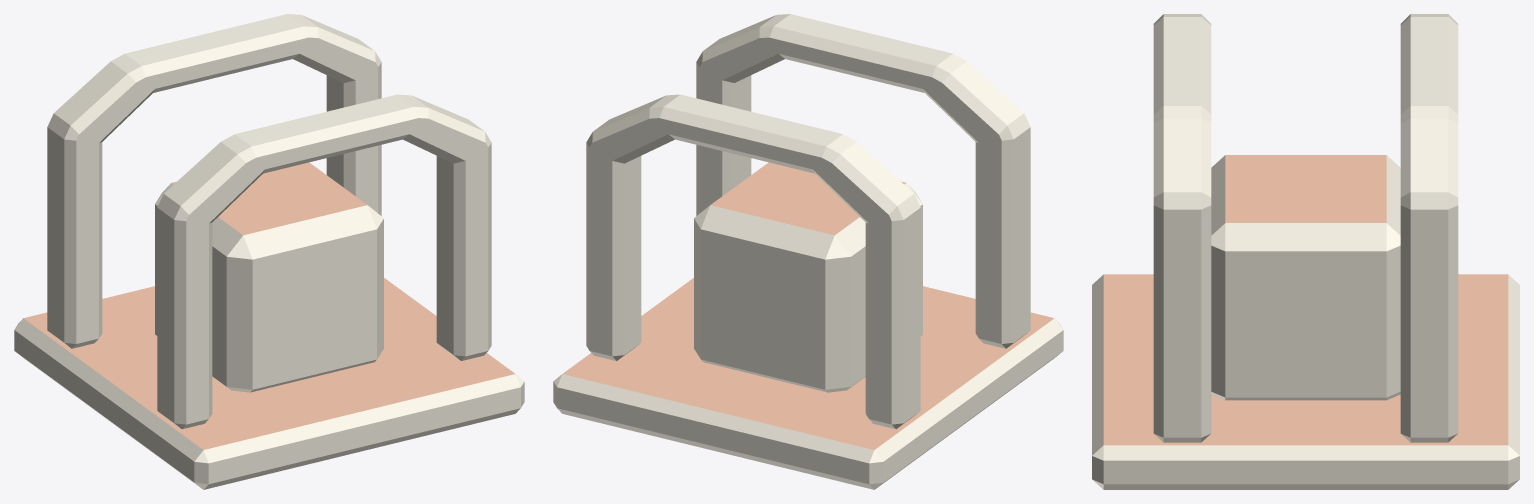
The model's file is R4X_ModuleDurabilityBooster_LOD1.fbx.
3 views of the same model, side by side, from view 1: azimuth 30°, elevation 25°; view 2: azimuth 150°, elevation 25°; view 3: azimuth 270°, elevation 25° (orthographic). The views are drawn at different scales.
Visible parts, largest first — view 1: R4X_ModuleDurabilityBooster_LOD1; view 2: R4X_ModuleDurabilityBooster_LOD1; view 3: R4X_ModuleDurabilityBooster_LOD1.
Part boxes in pixels (x1,y1,x2,y2): R4X_ModuleDurabilityBooster_LOD1: [14, 14, 524, 489]; R4X_ModuleDurabilityBooster_LOD1: [553, 14, 1063, 489]; R4X_ModuleDurabilityBooster_LOD1: [1092, 14, 1519, 489].
Bounding box in the file's own units: 0.52 × 0.46 × 0.52.
